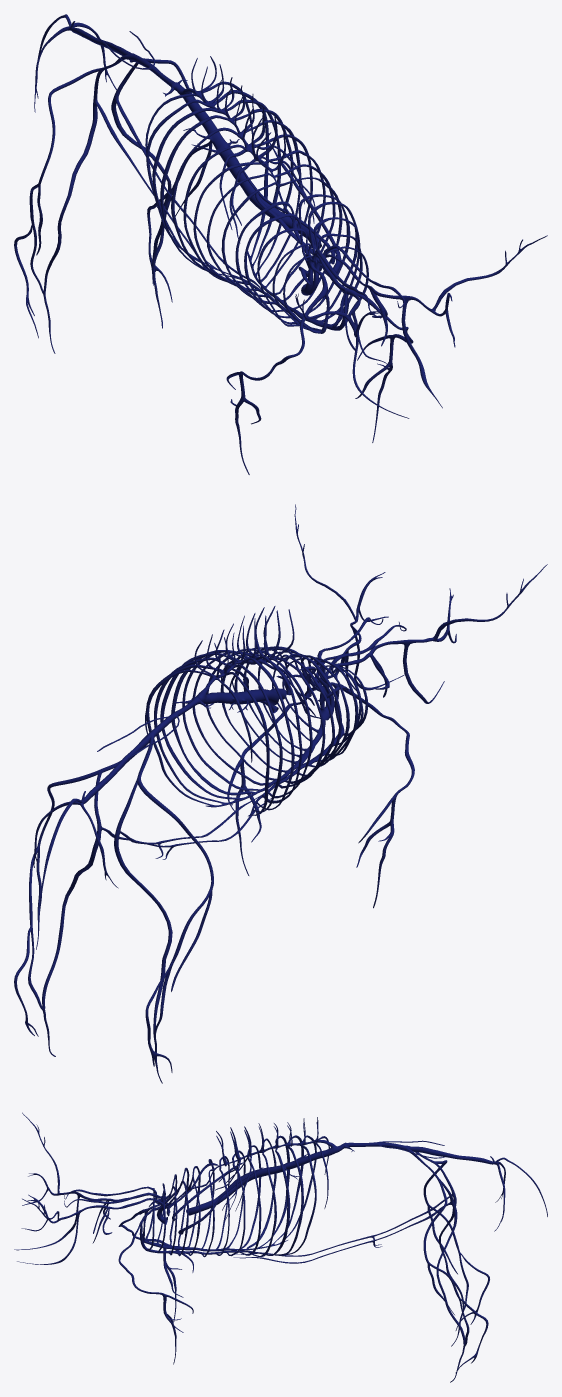
File: Veins.fbx
The picture shows the model from 3 angles, top to bottom: view 1: azimuth 30°, elevation 25°; view 2: azimuth 150°, elevation 25°; view 3: azimuth 270°, elevation 25°; orthographic projection. The views are drawn at different scales.
Visible parts, largest first — view 1: Veins; view 2: Veins; view 3: Veins.
Boxes of the visible parts, x1=… form: Veins: x1=14, y1=14, x2=547, y2=474; Veins: x1=14, y1=504, x2=547, y2=1083; Veins: x1=14, y1=1112, x2=547, y2=1382.
Size of the model in its own units: 37.15 by 50.24 by 99.15.
